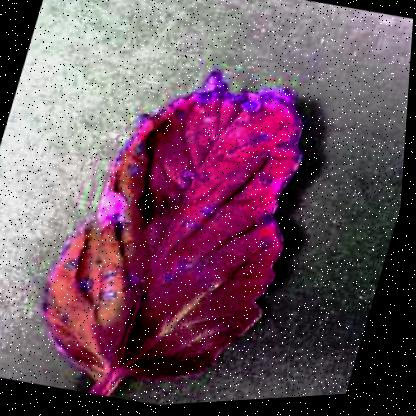BACTERIAL SPOT: (15, 38, 342, 413)
